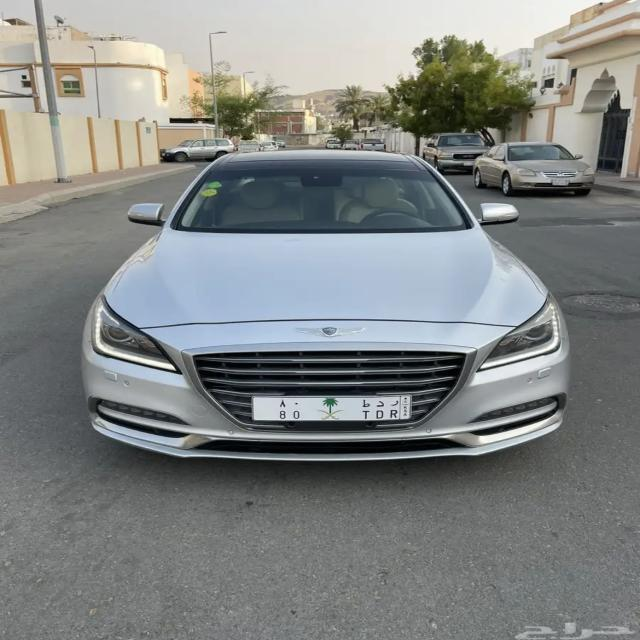license_plate: (251, 395, 413, 423)
